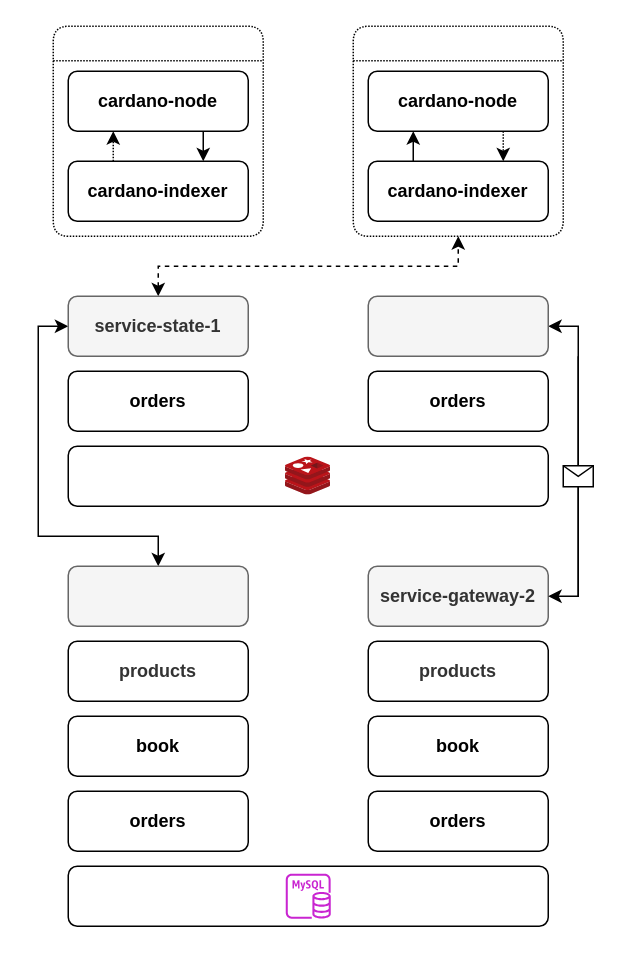
Image size: 620x953. Some labels were removed from this diagram. Here are the shapes that lost their labels. From the top down, the box of each, then its label:
(52, 25, 263, 236): Provider-1
(352, 25, 563, 236): Provider-2
(367, 295, 548, 356): service-state-2
(67, 565, 248, 626): service-gateway-1
